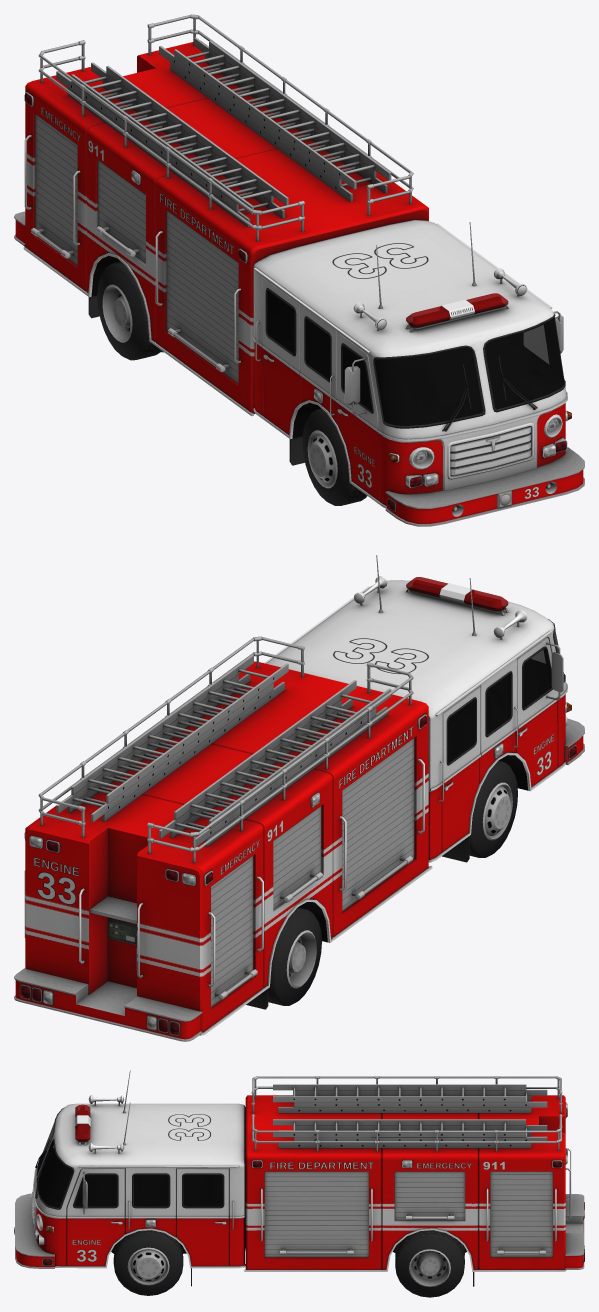
Rendered from firetruck.glb.
3 views of the same model, one above another, from view 1: azimuth 30°, elevation 25°; view 2: azimuth 150°, elevation 25°; view 3: azimuth 270°, elevation 25° (orthographic). The views are drawn at different scales.
Parts seen in each view (by area): view 1: body_0, body_1, wheel_2, wheel_1, body_3, body_2, body_4; view 2: body_0, wheel_2, body_1, body_3, wheel_1, body_4, body_2; view 3: body_0, body_1, wheel_0, wheel_3, body_3, body_4, body_2.
Part boxes in pixels (x1,y1,x2,y2): body_0: (14,14,584,526); body_1: (267,291,564,425); wheel_2: (97,261,163,360); wheel_1: (302,408,366,505); body_3: (41,107,538,498); body_2: (406,293,508,327); body_4: (24,93,571,511); body_0: (14,555,584,1041); wheel_2: (268,907,321,1005); body_1: (448,630,564,762); body_3: (34,638,554,904); wheel_1: (469,760,517,857); body_4: (21,703,576,1035); body_2: (406,577,508,611); body_0: (14,1070,584,1286); body_1: (37,1122,222,1207); wheel_0: (395,1230,464,1297); wheel_3: (113,1230,183,1295); body_3: (72,1114,504,1261); body_4: (34,1103,584,1265); body_2: (75,1104,90,1141).
Bounding box in the file's own units: 2.59 × 2.93 × 8.35.
Materials: 5 (5 with a texture image).
